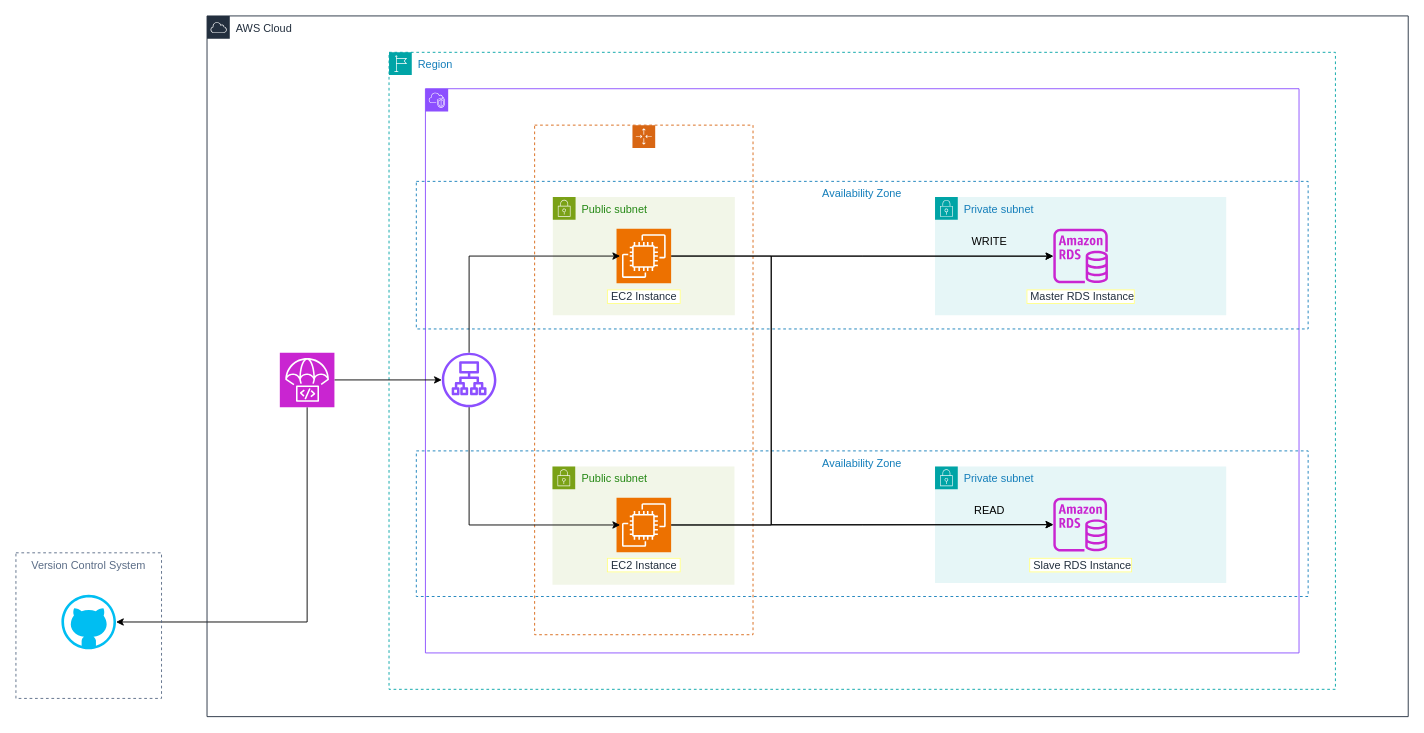
The diagram is 1424 pixels wide and 733 high, and some of its shapes have lost their labels. Here are the shapes that lost their labels. From the top down, the box of each, then its label:
(279, 352, 334, 407): CodeDeploy
(441, 352, 496, 407): Application Load Balancer
(534, 124, 753, 635): Auto Scaling group
(425, 88, 1299, 653): VPC
(61, 594, 116, 649): Github
